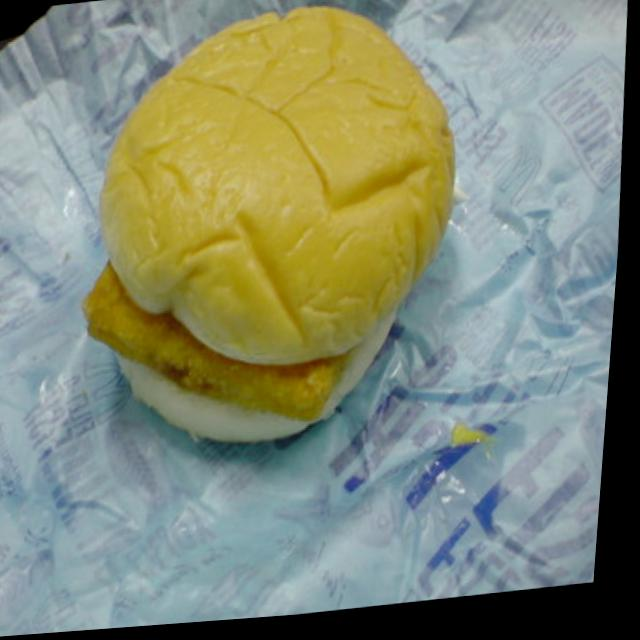汉堡快餐: (72, 0, 471, 458)
